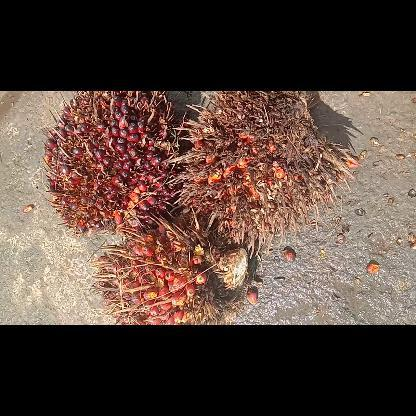TBS masak: (42, 90, 182, 235), (90, 206, 248, 324)
Terlalu masak: (168, 91, 354, 255)
